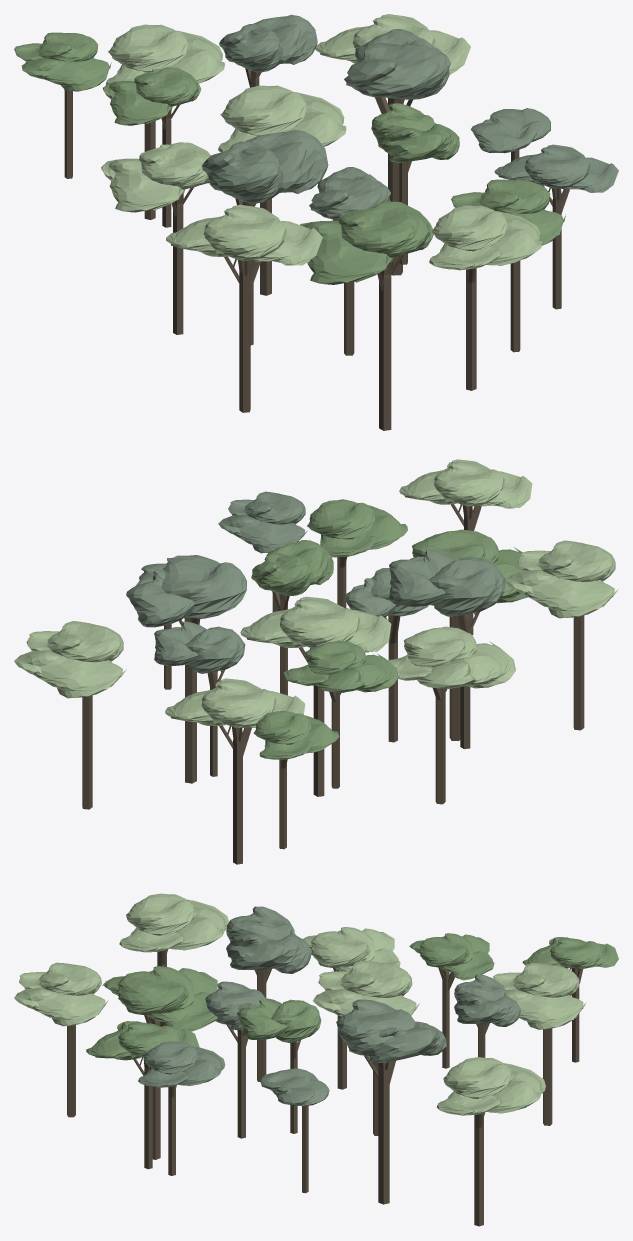
File: strange trees level 2.fbx
3 renders of one model, top to bottom at view 1: azimuth 30°, elevation 25°; view 2: azimuth 150°, elevation 25°; view 3: azimuth 270°, elevation 25°, orthographic. The views are drawn at different scales.
Parts seen in each view (by area): view 1: Random_1; view 2: Random_1; view 3: Random_1.
Boxes of the visible parts, <box> form: Random_1: <box>14,14,618,430</box>; Random_1: <box>14,459,618,864</box>; Random_1: <box>14,893,618,1226</box>.
Size of the model in its own units: 2053 by 1081 by 2808.
